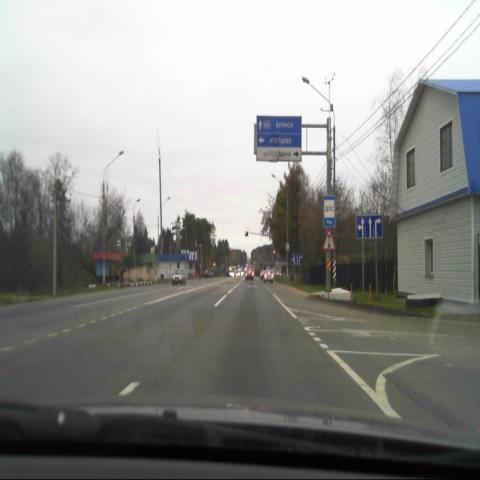1_8: (322, 229, 335, 250)
7_12: (323, 196, 335, 227)
